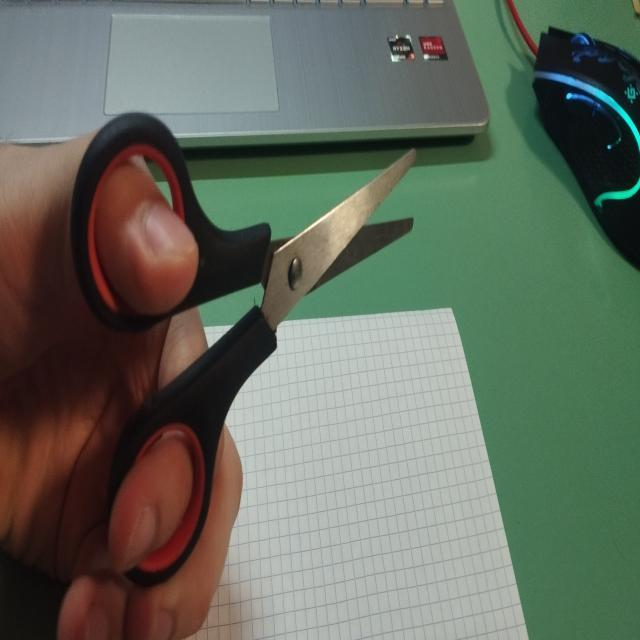tesoura: (66, 105, 418, 598)
